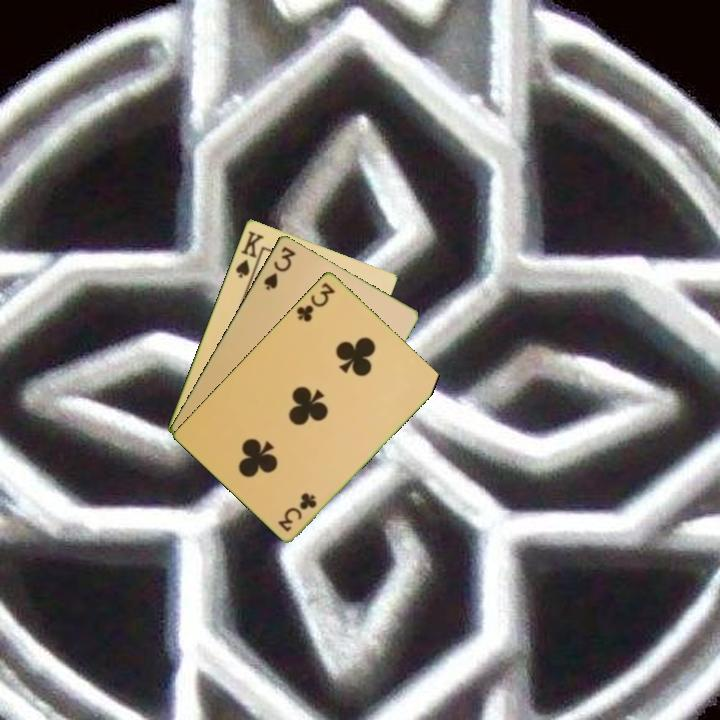3c: (293, 279, 338, 325), (275, 489, 320, 534)
3s: (260, 243, 298, 293)
Ks: (232, 227, 266, 281)
